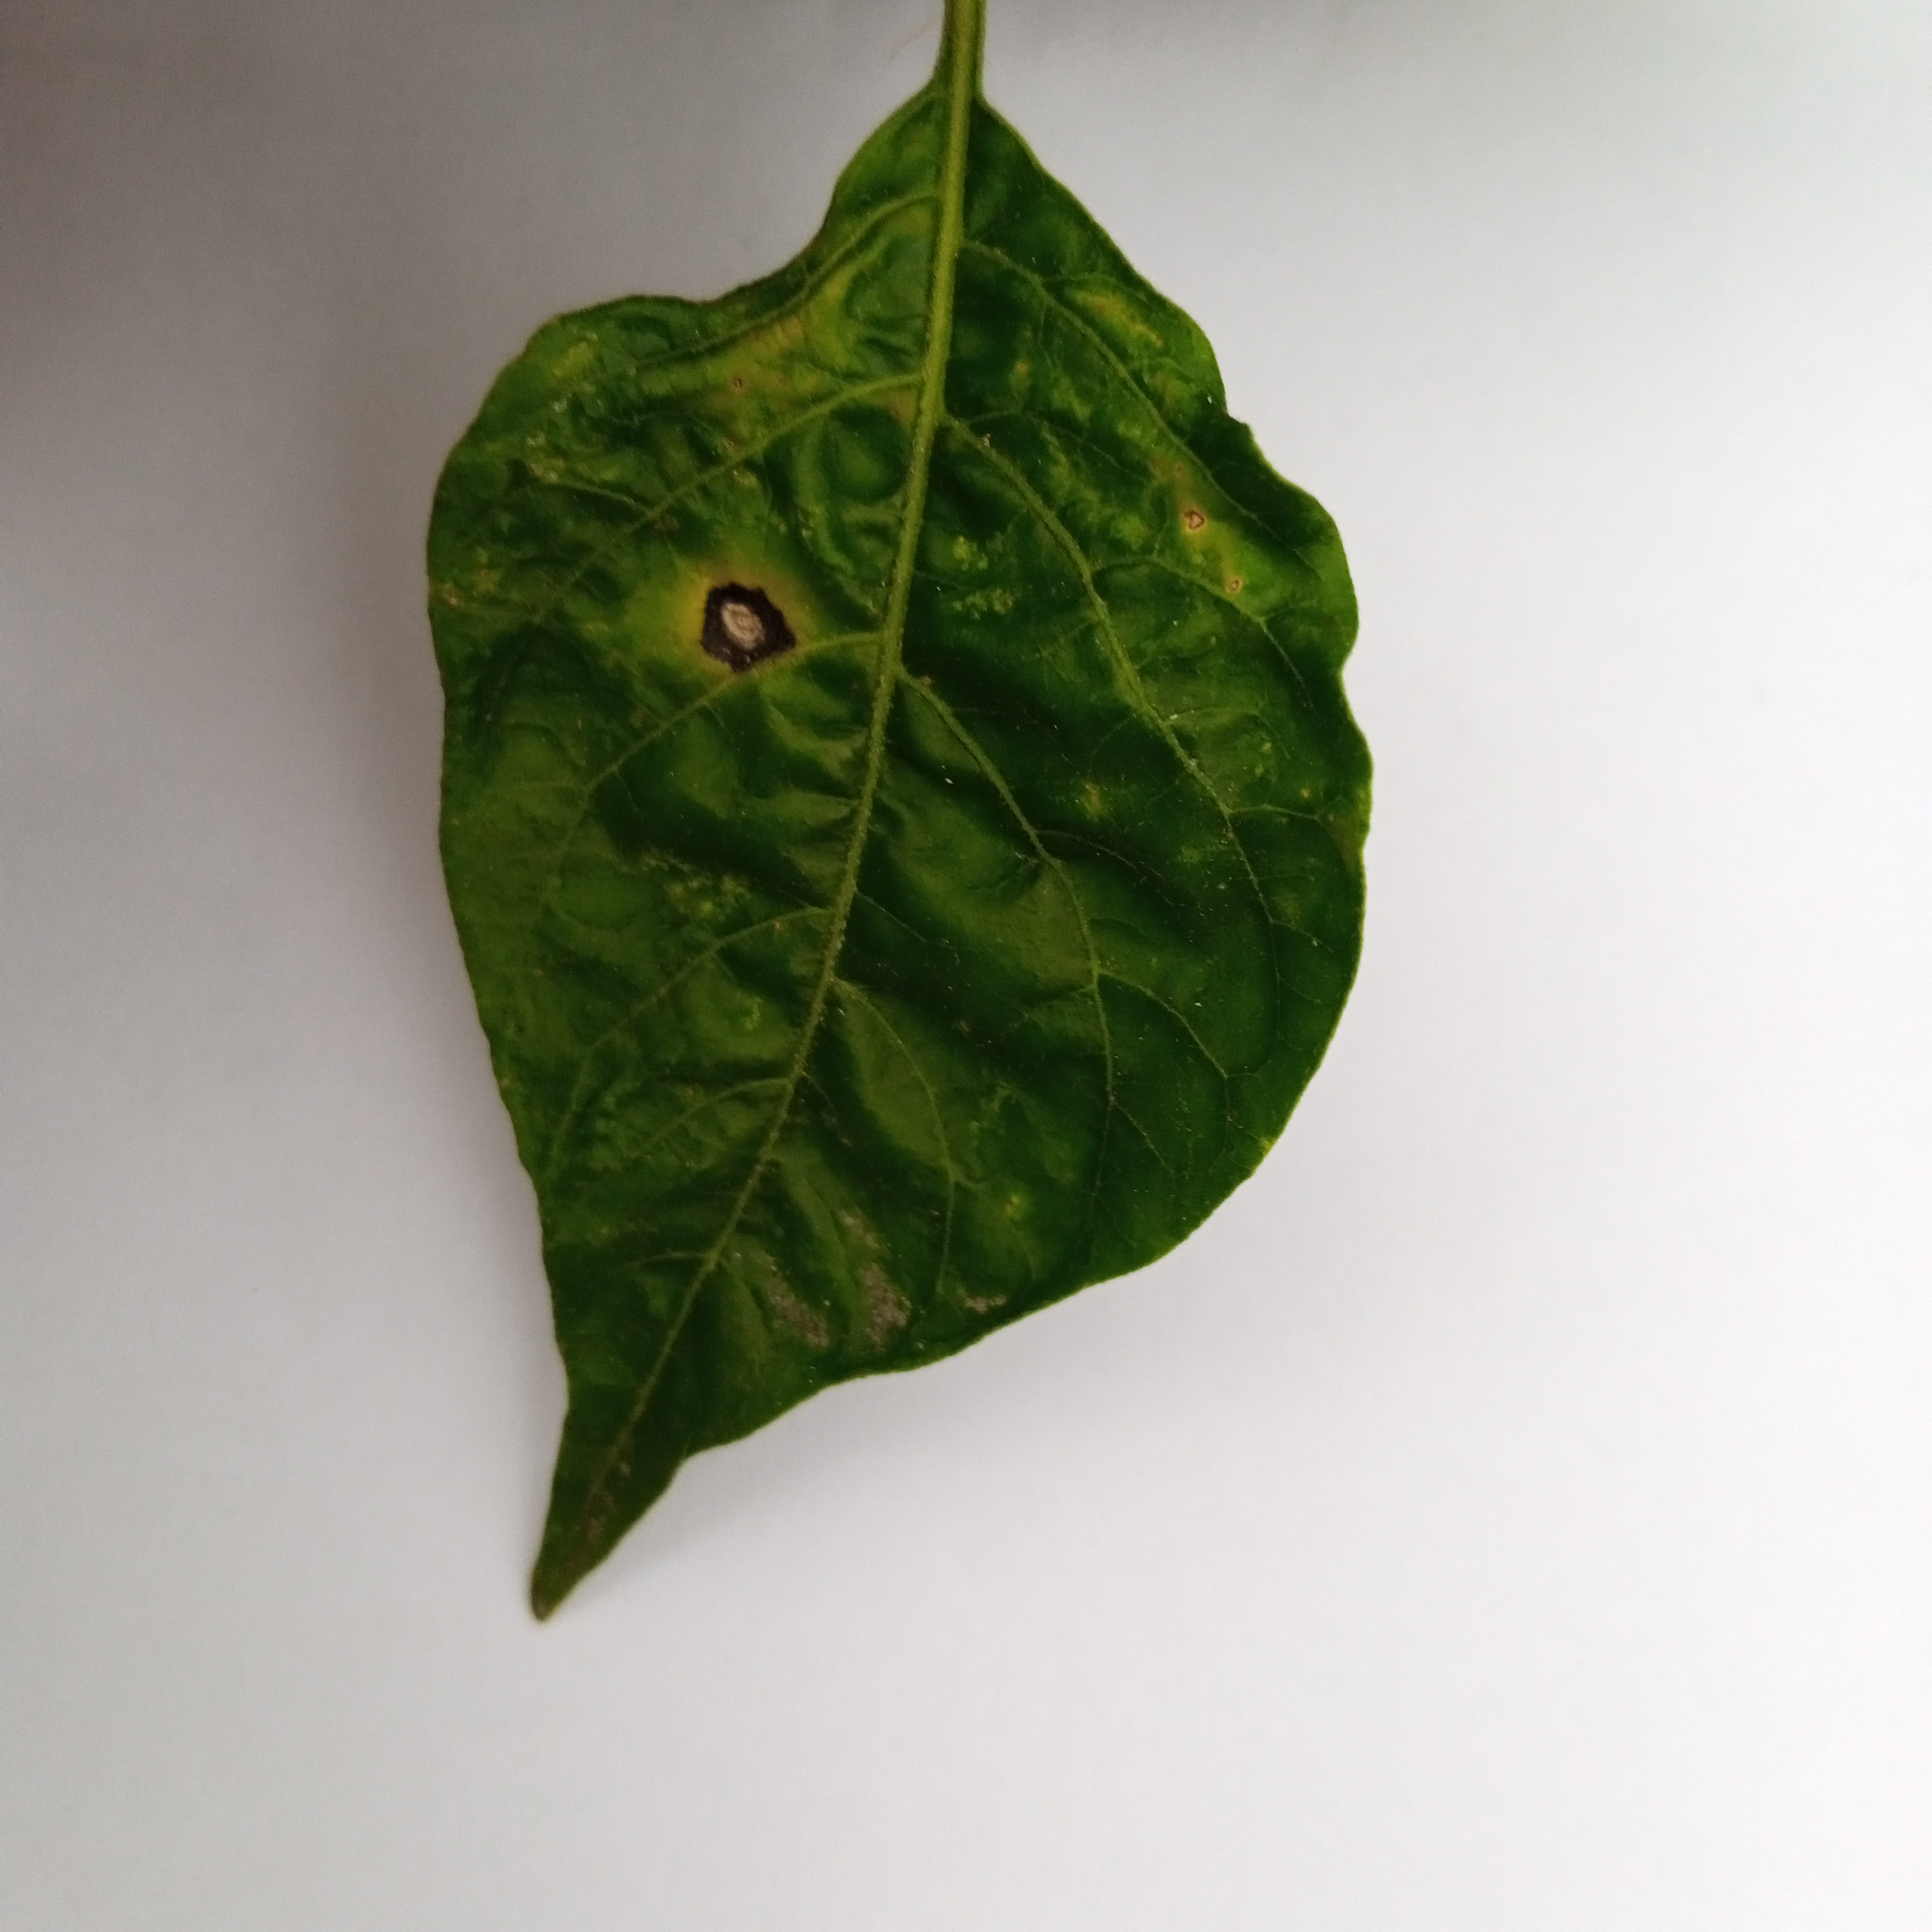Leaf: (260, 80, 1431, 1619)
